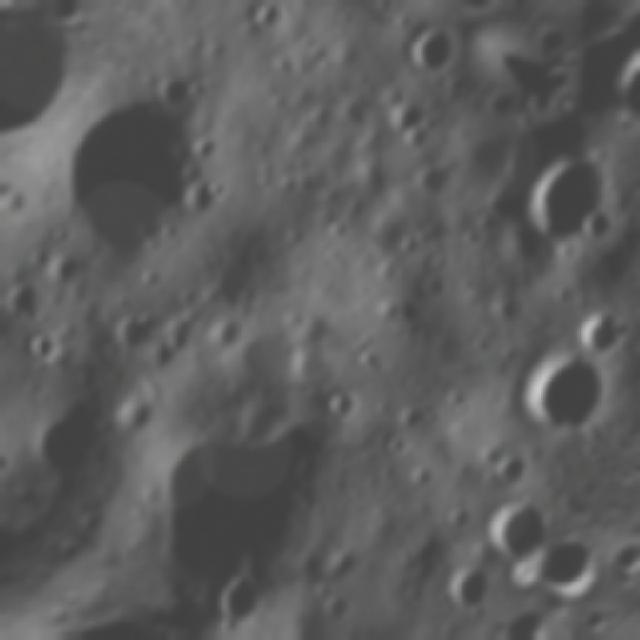crater: (102, 350, 373, 628), (25, 74, 232, 286), (497, 126, 640, 276), (5, 380, 152, 525), (500, 326, 632, 459), (470, 480, 565, 578), (259, 592, 438, 640), (229, 309, 316, 400), (430, 547, 512, 628), (199, 563, 278, 640), (199, 245, 275, 323), (566, 290, 640, 368), (398, 22, 467, 92), (105, 296, 166, 361), (148, 60, 210, 123), (0, 268, 58, 334), (106, 385, 166, 447), (281, 338, 341, 398), (402, 152, 460, 212), (174, 172, 231, 231), (38, 242, 93, 300), (574, 200, 629, 258), (488, 441, 542, 496), (319, 378, 372, 432), (378, 90, 431, 144), (18, 324, 71, 376), (204, 306, 256, 359), (475, 85, 527, 137), (297, 91, 348, 143), (396, 110, 444, 162), (434, 492, 483, 540), (125, 212, 173, 259), (334, 88, 380, 135), (416, 262, 462, 309), (184, 126, 230, 172), (540, 270, 586, 316), (321, 538, 367, 584), (317, 585, 360, 630), (368, 251, 410, 294), (437, 378, 480, 420), (376, 426, 418, 468), (243, 0, 289, 38), (321, 213, 361, 253), (390, 226, 428, 266), (391, 291, 429, 331), (45, 218, 83, 256), (21, 238, 57, 273), (170, 281, 205, 316), (388, 9, 422, 43), (422, 250, 456, 284), (0, 439, 22, 479), (0, 389, 15, 443)
